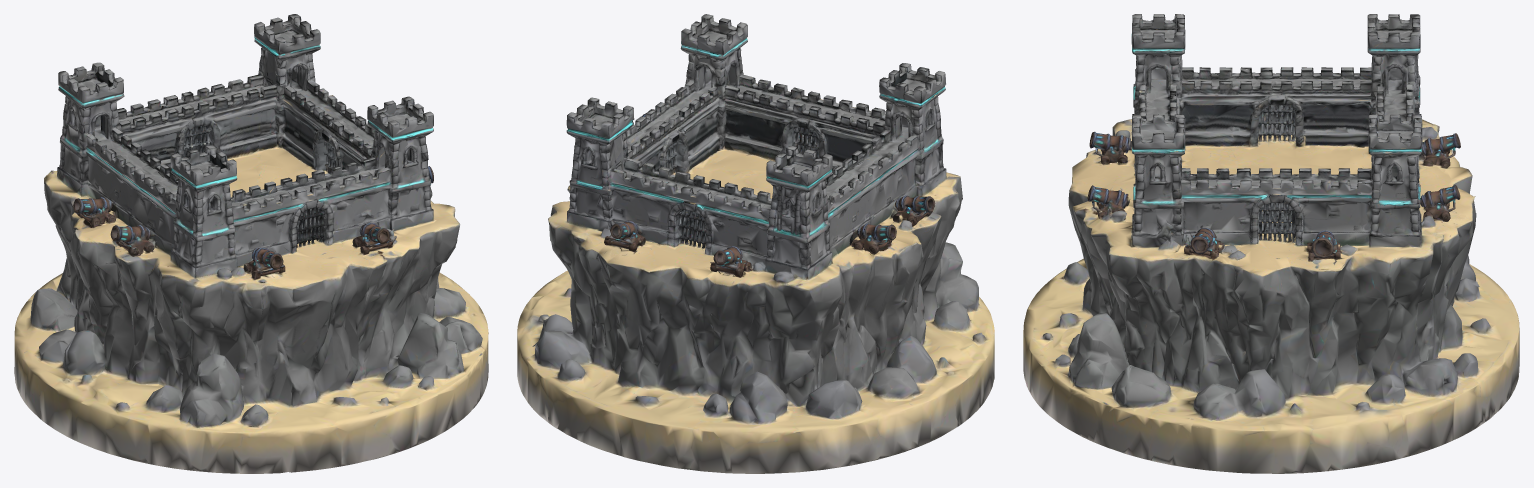
File: island_experiencia.glb
The picture shows the model from 3 angles, left to right: view 1: azimuth 30°, elevation 25°; view 2: azimuth 150°, elevation 25°; view 3: azimuth 270°, elevation 25°; orthographic projection. The views are drawn at different scales.
Size of the model in its own units: 1.9 by 1.24 by 1.9.
1 material, 1 textured.
